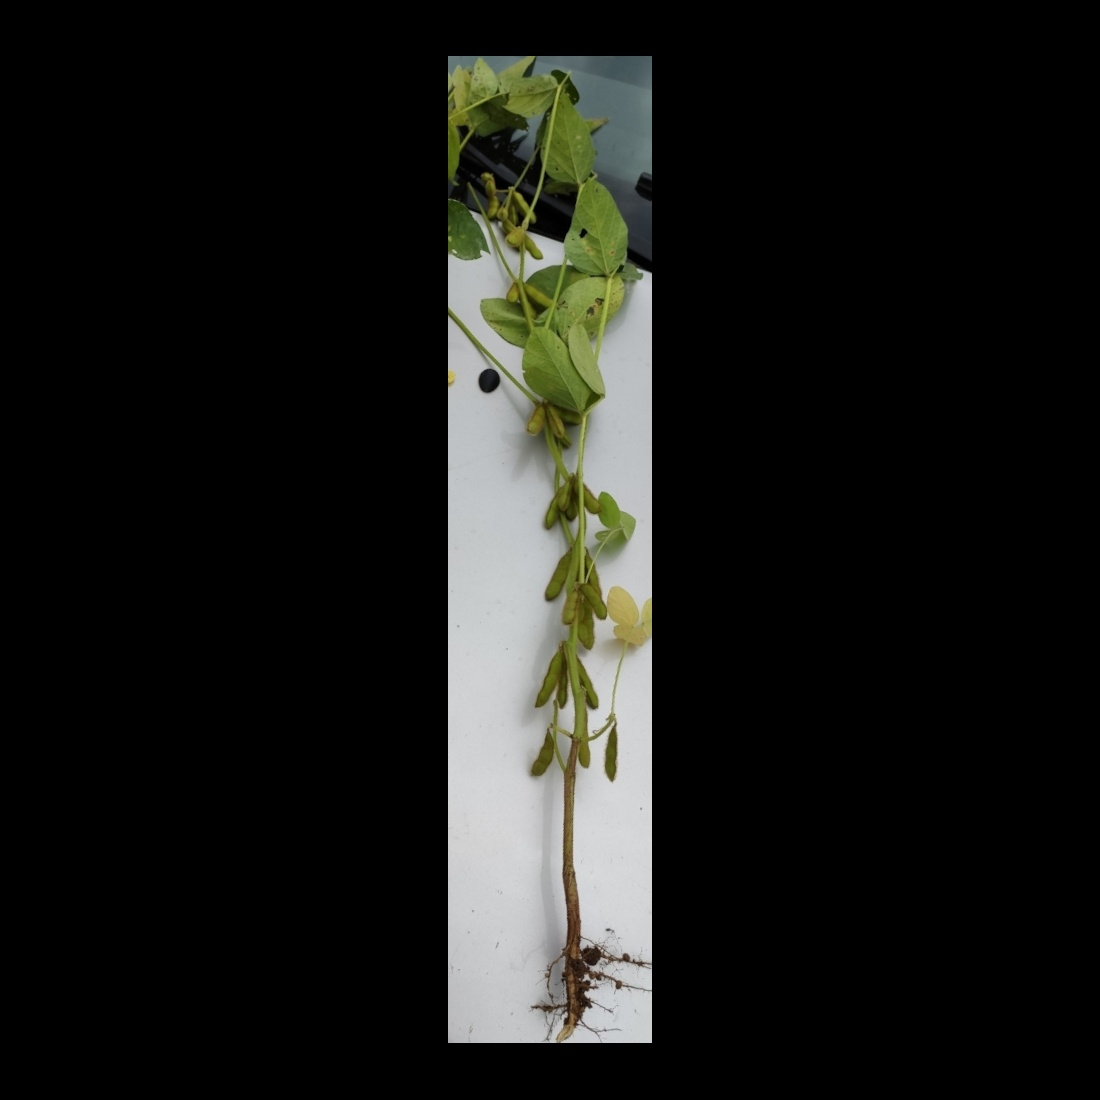pod: (535, 653, 562, 711), (545, 552, 573, 601), (530, 730, 557, 781), (579, 585, 608, 621), (604, 724, 618, 784), (512, 188, 535, 224), (526, 404, 547, 437)
soy: (453, 75, 640, 1011)
